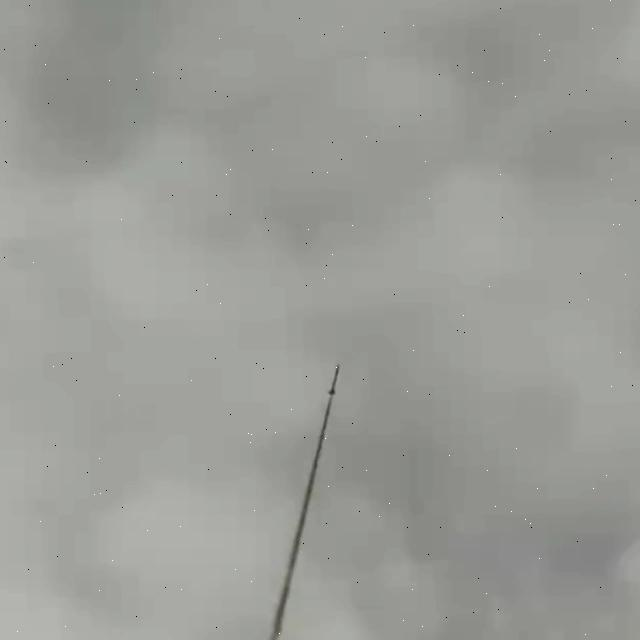smoke_trail_with_rocket: (268, 364, 339, 640)
